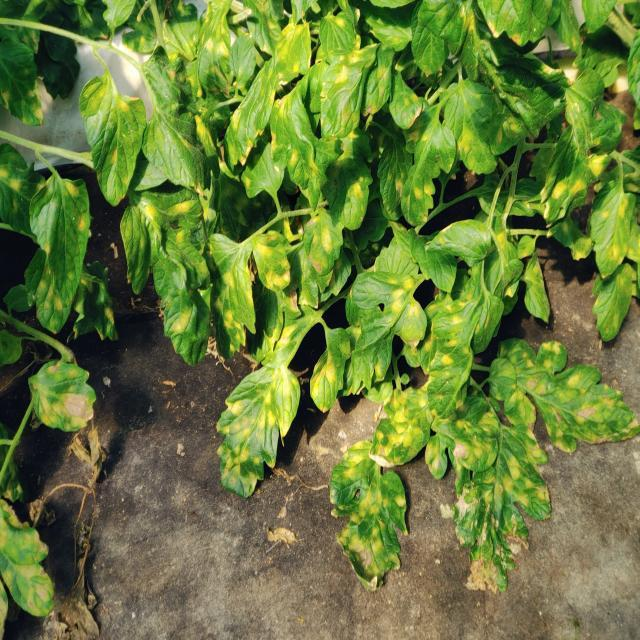Tomato mold leaf: (416, 0, 574, 142), (452, 422, 551, 592), (497, 336, 640, 453), (120, 186, 211, 367), (540, 66, 622, 228), (329, 439, 408, 594), (216, 364, 301, 499), (270, 59, 345, 212), (421, 284, 504, 421), (142, 44, 212, 199), (29, 173, 90, 335), (351, 270, 426, 396), (77, 76, 146, 206), (222, 56, 286, 174), (424, 385, 500, 480), (401, 98, 456, 226), (202, 232, 256, 358), (0, 497, 55, 617), (440, 79, 504, 175), (320, 42, 376, 142), (321, 128, 374, 231), (368, 386, 434, 468), (29, 360, 97, 432), (590, 177, 637, 279), (185, 0, 232, 99), (0, 142, 45, 235), (0, 36, 43, 127), (72, 260, 119, 342), (310, 327, 350, 413), (590, 262, 632, 342), (425, 218, 492, 268), (377, 134, 413, 216), (302, 208, 344, 276), (360, 43, 396, 116), (275, 14, 312, 84), (252, 229, 292, 293), (242, 0, 282, 56), (389, 71, 422, 130), (472, 294, 504, 354), (524, 252, 550, 324), (229, 32, 257, 85), (321, 12, 356, 54), (488, 357, 518, 402)
